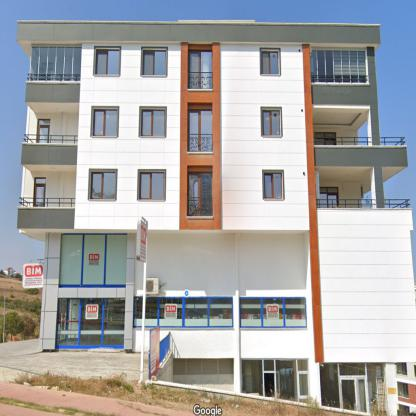door: (340, 376, 368, 414), (263, 370, 280, 396), (297, 371, 310, 403), (34, 179, 46, 206), (38, 119, 50, 142)
window: (320, 362, 387, 414), (56, 296, 124, 345), (241, 359, 308, 400), (145, 296, 232, 326), (240, 297, 307, 327), (29, 44, 82, 81), (310, 50, 368, 83), (187, 172, 212, 216), (188, 110, 212, 151), (188, 51, 212, 89), (88, 169, 116, 199), (138, 170, 164, 201), (92, 108, 118, 137), (140, 108, 165, 137), (93, 48, 119, 75), (142, 49, 166, 76), (263, 172, 283, 198), (262, 110, 280, 135), (317, 187, 338, 207), (262, 51, 280, 74), (314, 132, 336, 145), (134, 297, 142, 327), (398, 382, 408, 398), (397, 364, 407, 374)
